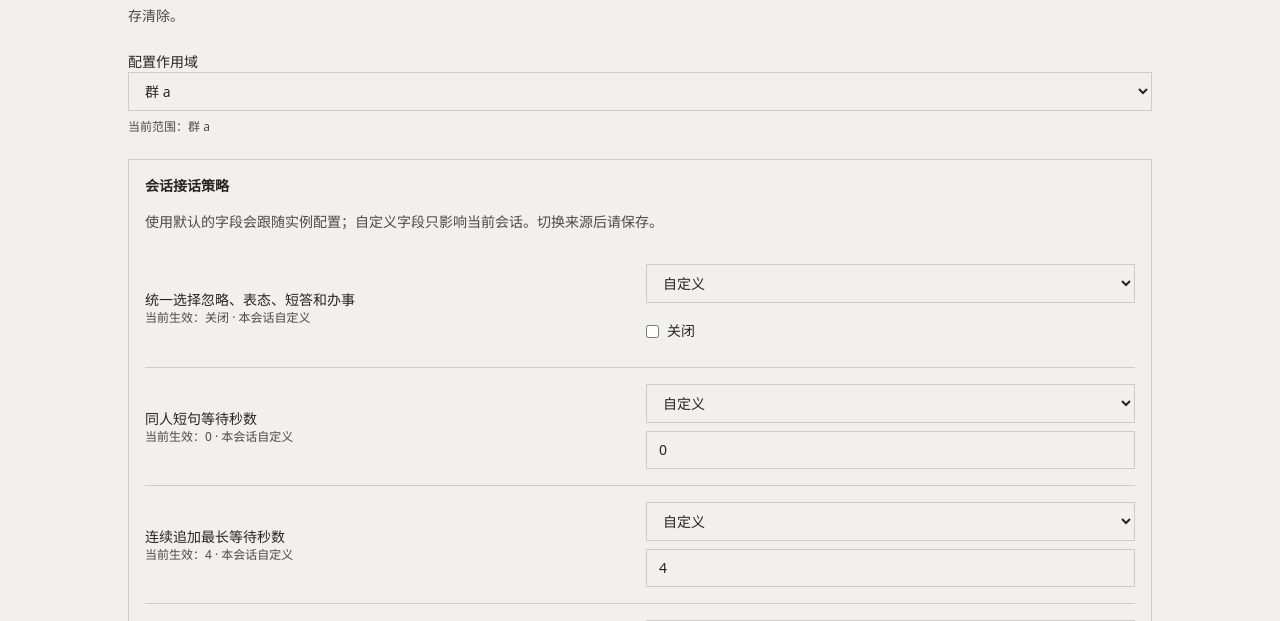
it: 群协作真实请求流程 › 后端拒绝操作时显示原因并保留原状态
This screenshot has width=1280, height=621.
Click the checkbox labelled "统一选择忽略、表态、短答和办事" at (652, 331), box [646,324,659,338]
(page scrolled)
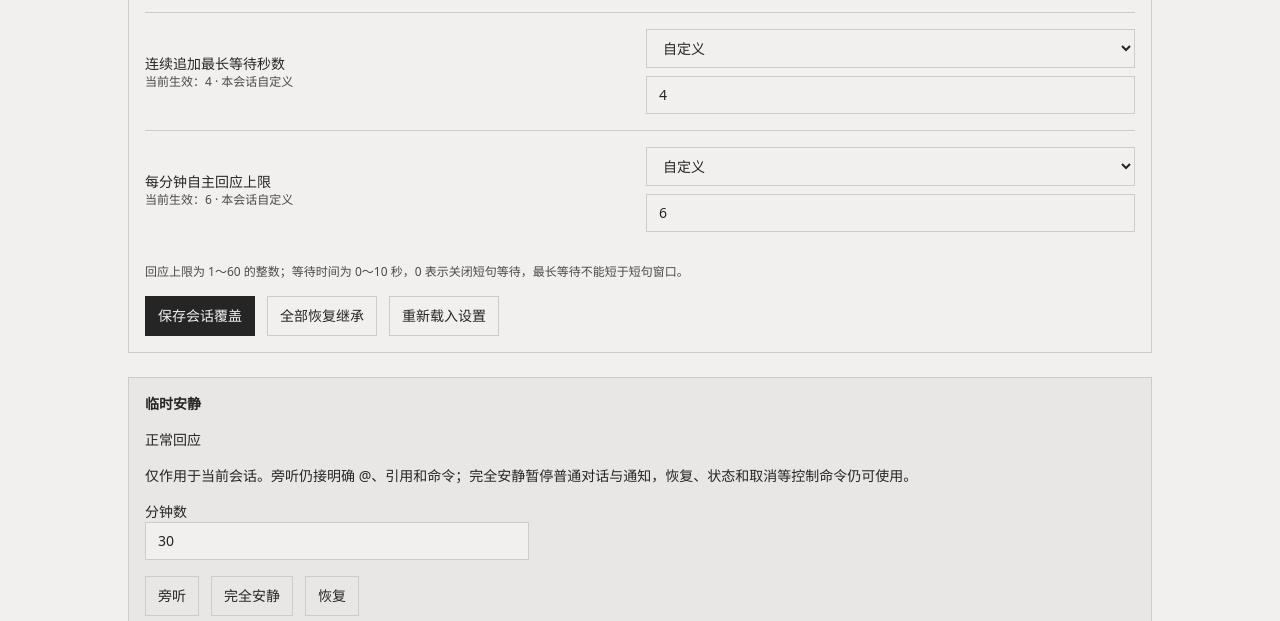
Click the button "保存会话覆盖" at (200, 316), box [145,296,255,336]
(page scrolled)
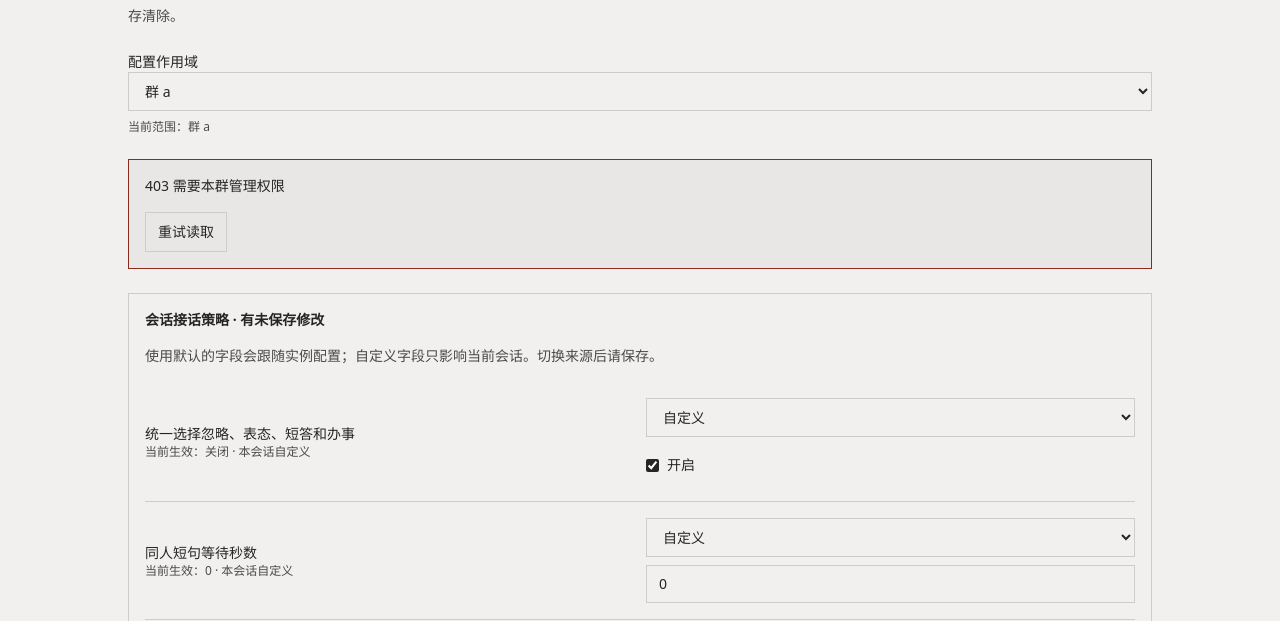
Now the message shows "需要本群管理权限", box [145,176,285,195]
